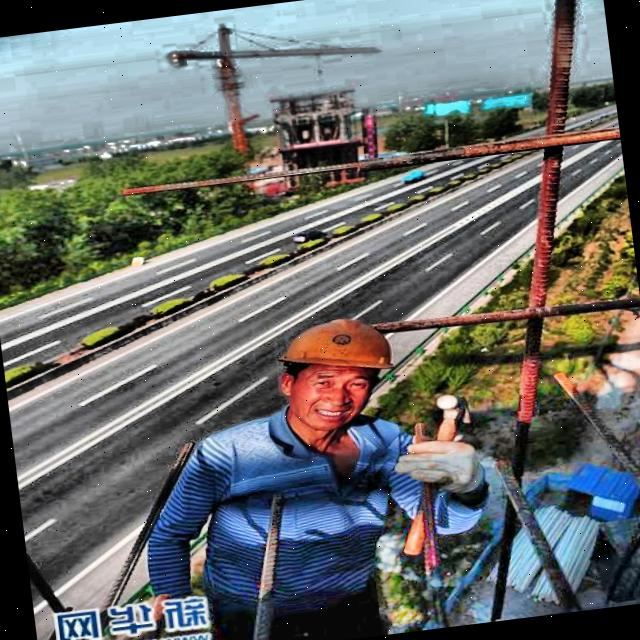helmet: (258, 304, 414, 439)
